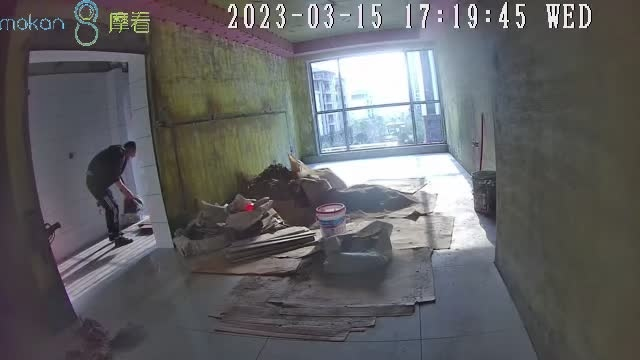people: (85, 140, 136, 246)
window: (309, 50, 442, 154)
